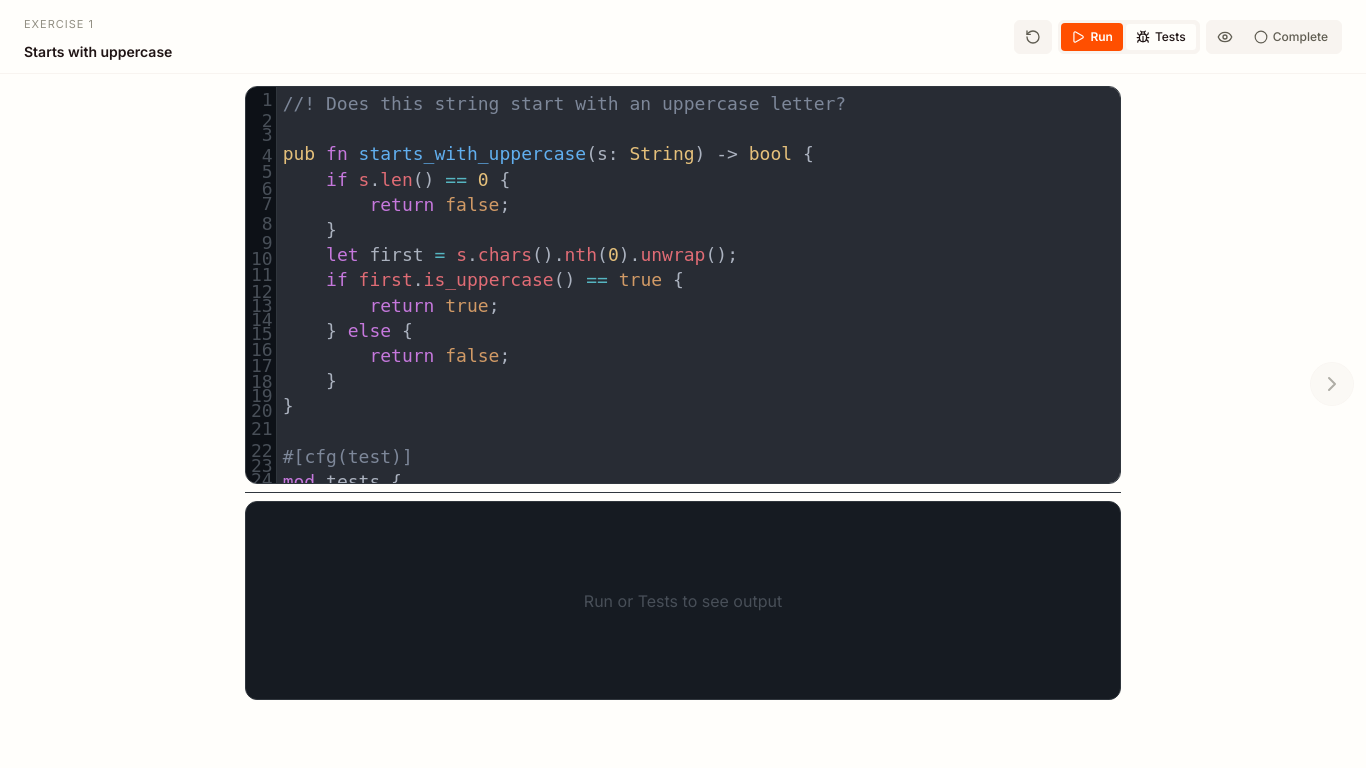
Test: ExerciseView › clears output when code is reset
This screenshot has width=1366, height=768.
Click the button "Run".
click(1092, 36)  # box [1061,22,1123,50]
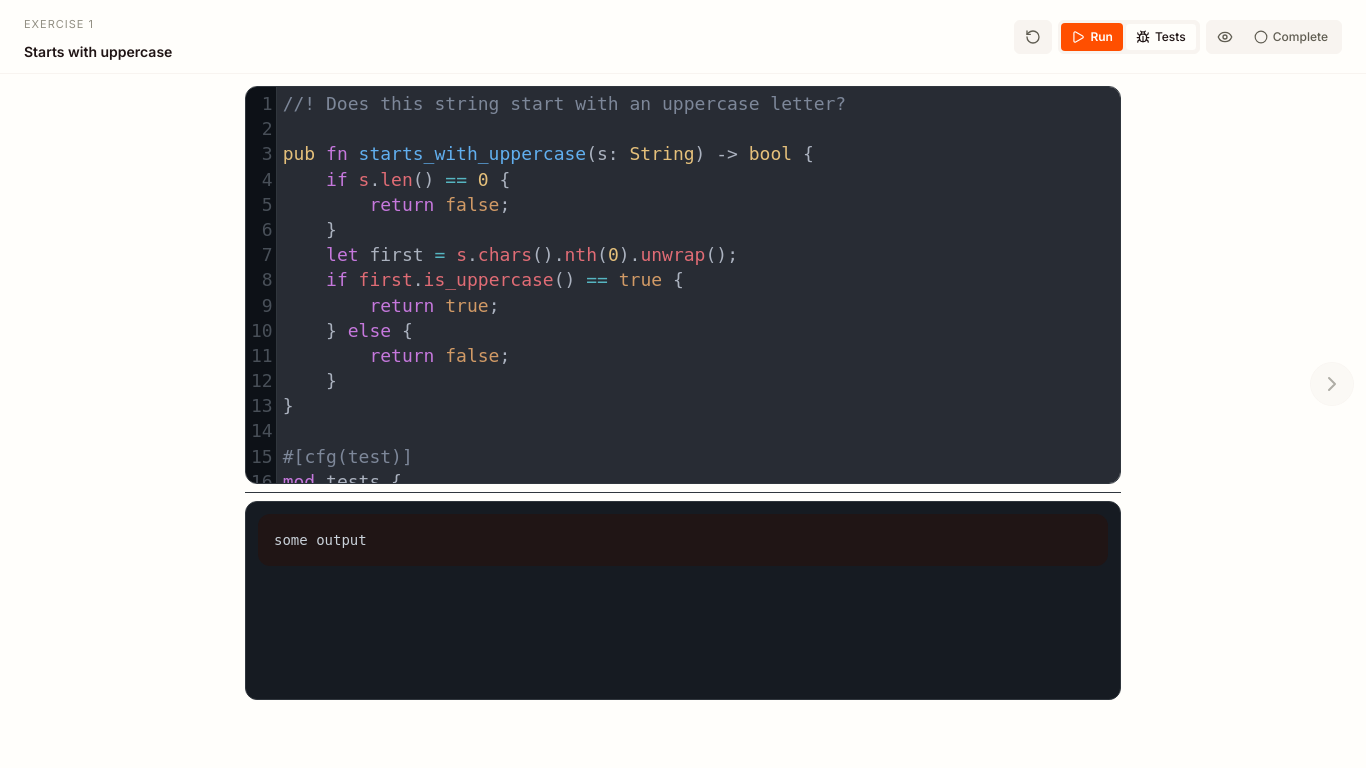
Expected: the text "some output" is shown, [258,514,1108,566]
Click the button with class "btn-icon".
click(1033, 36)  # box [1017,22,1049,50]
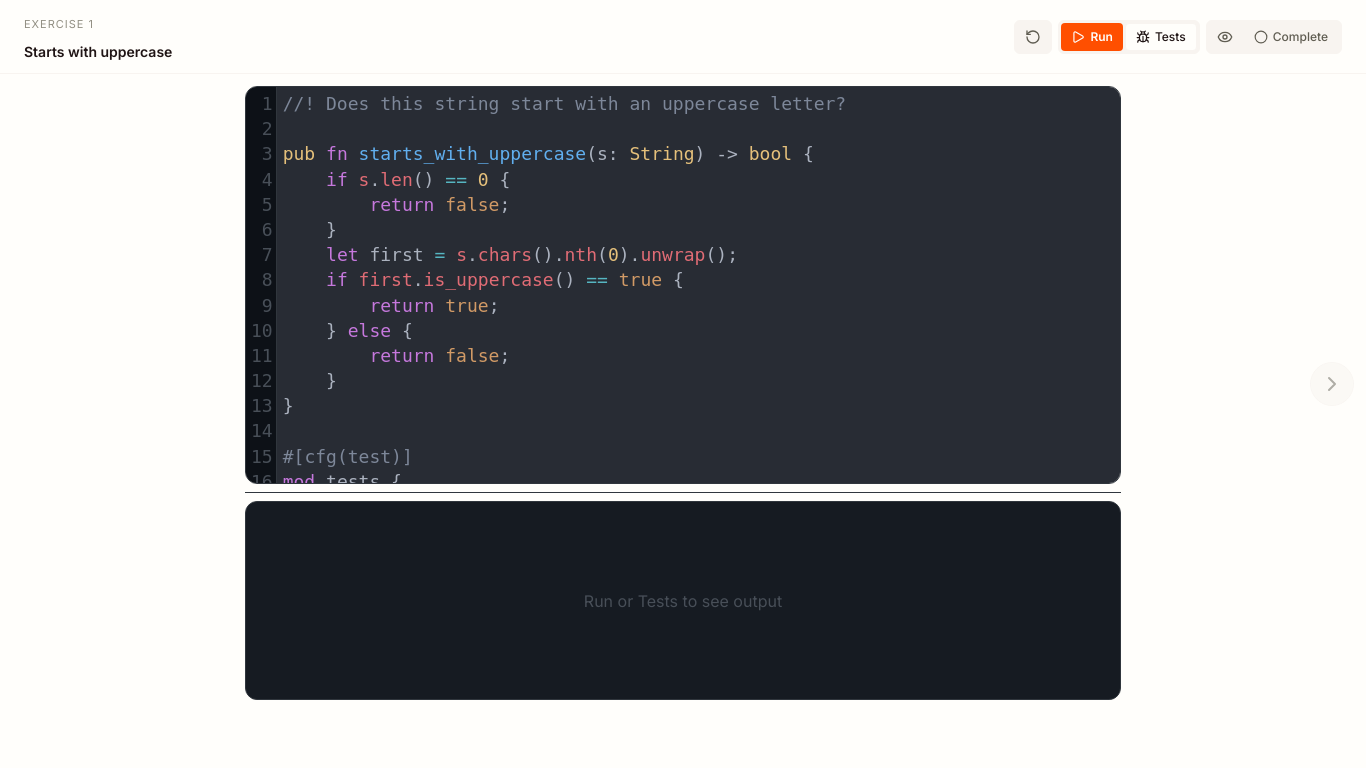
Expected: the text "Run or Tests to see output" is shown, [584,588,782,612]
